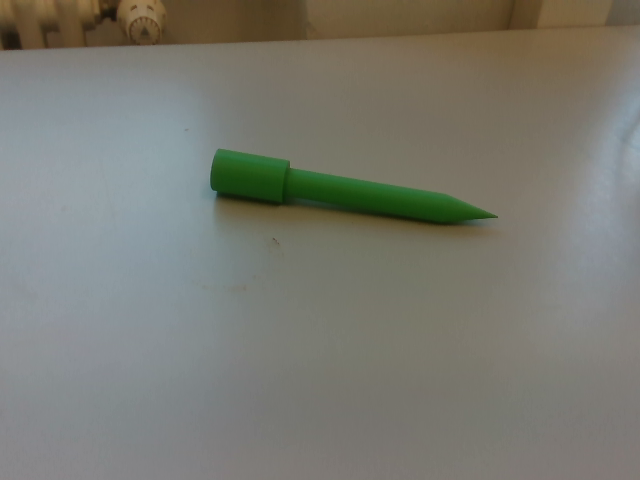Probe: (206, 141, 509, 232)
